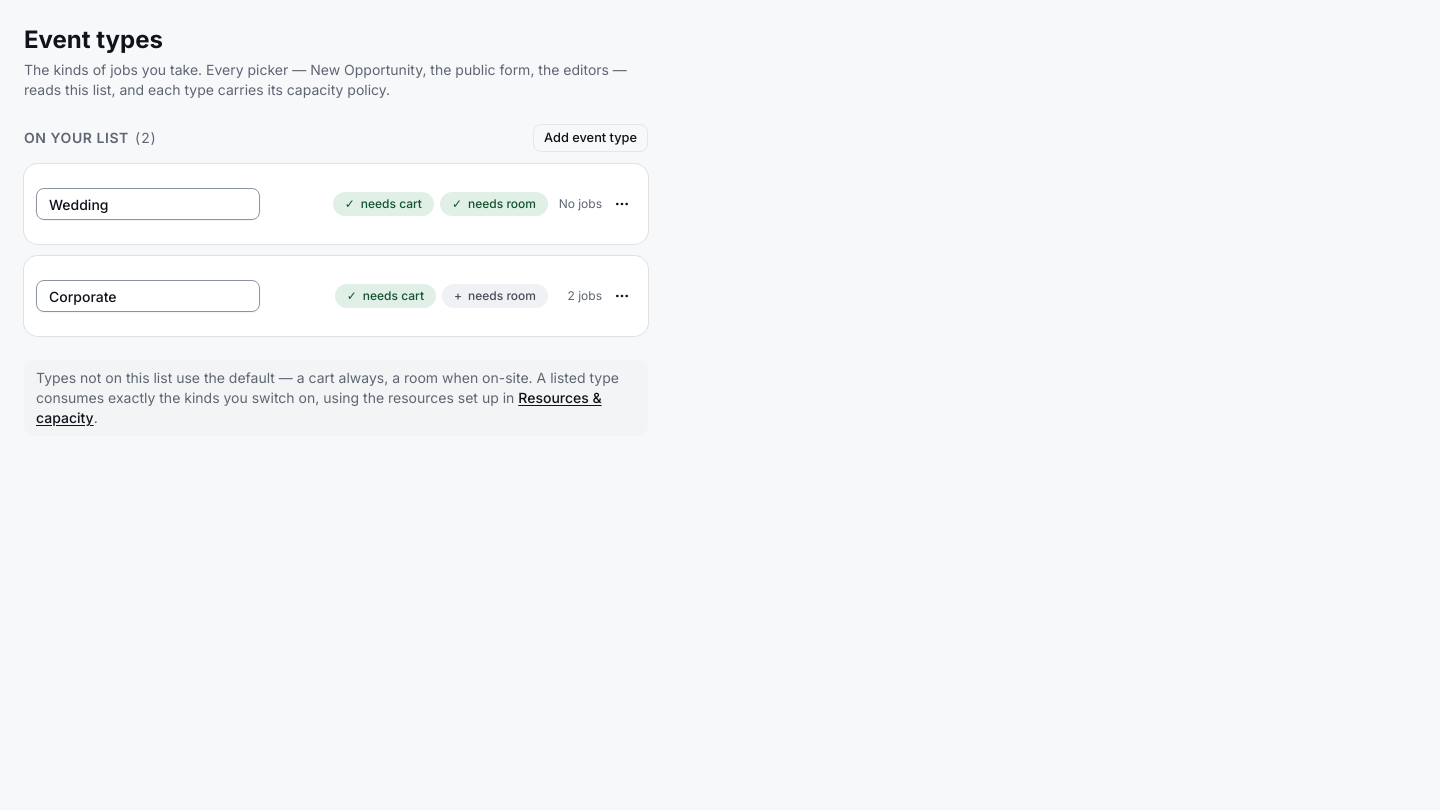
Test: EventTypesClient › deletes a zero-usage type behind a ConfirmDialog through deleteEventTypeProfile
Click the button named "Wedding — actions": point(622, 204) [608, 190, 636, 218]
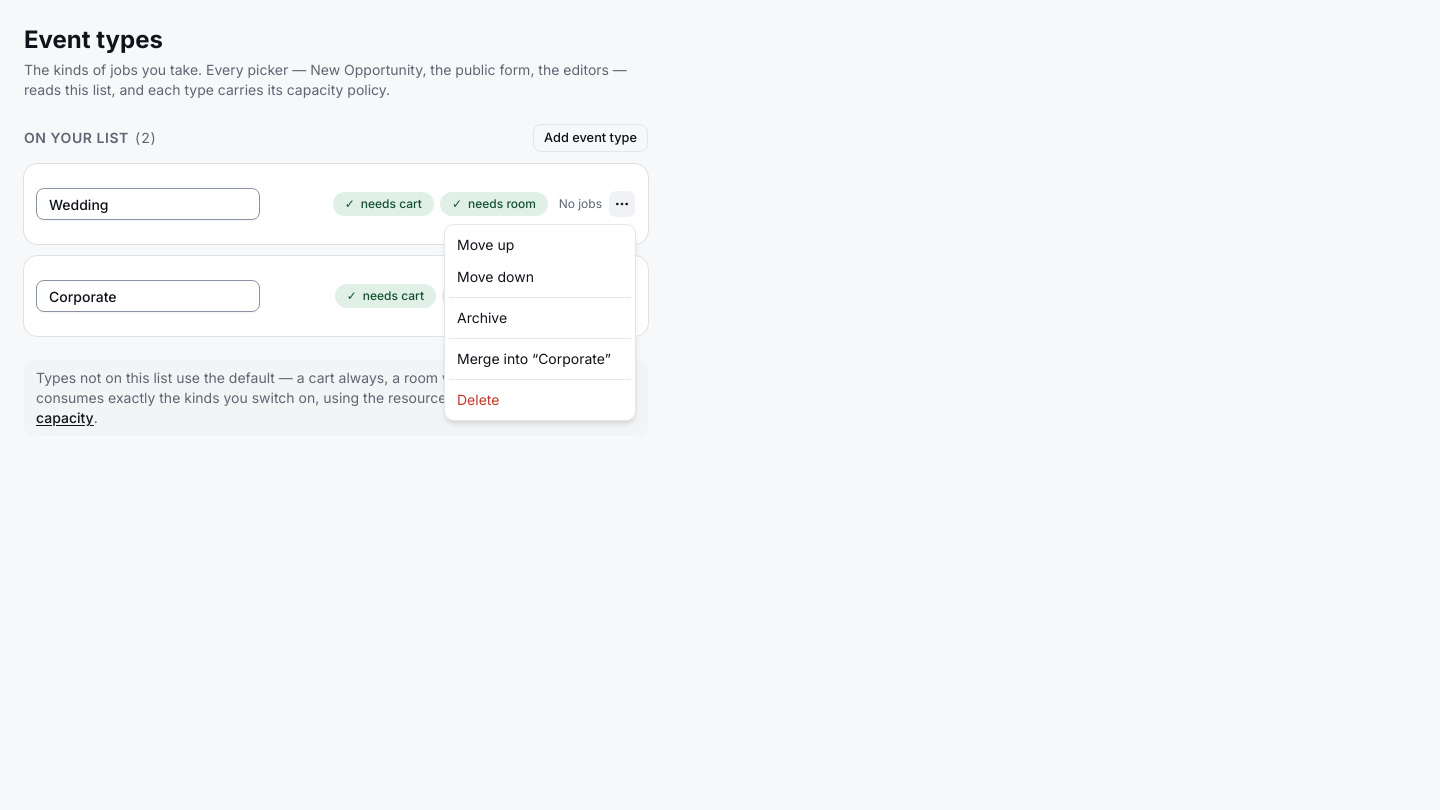
Click the menu item "Delete": point(478, 400) [457, 391, 499, 408]
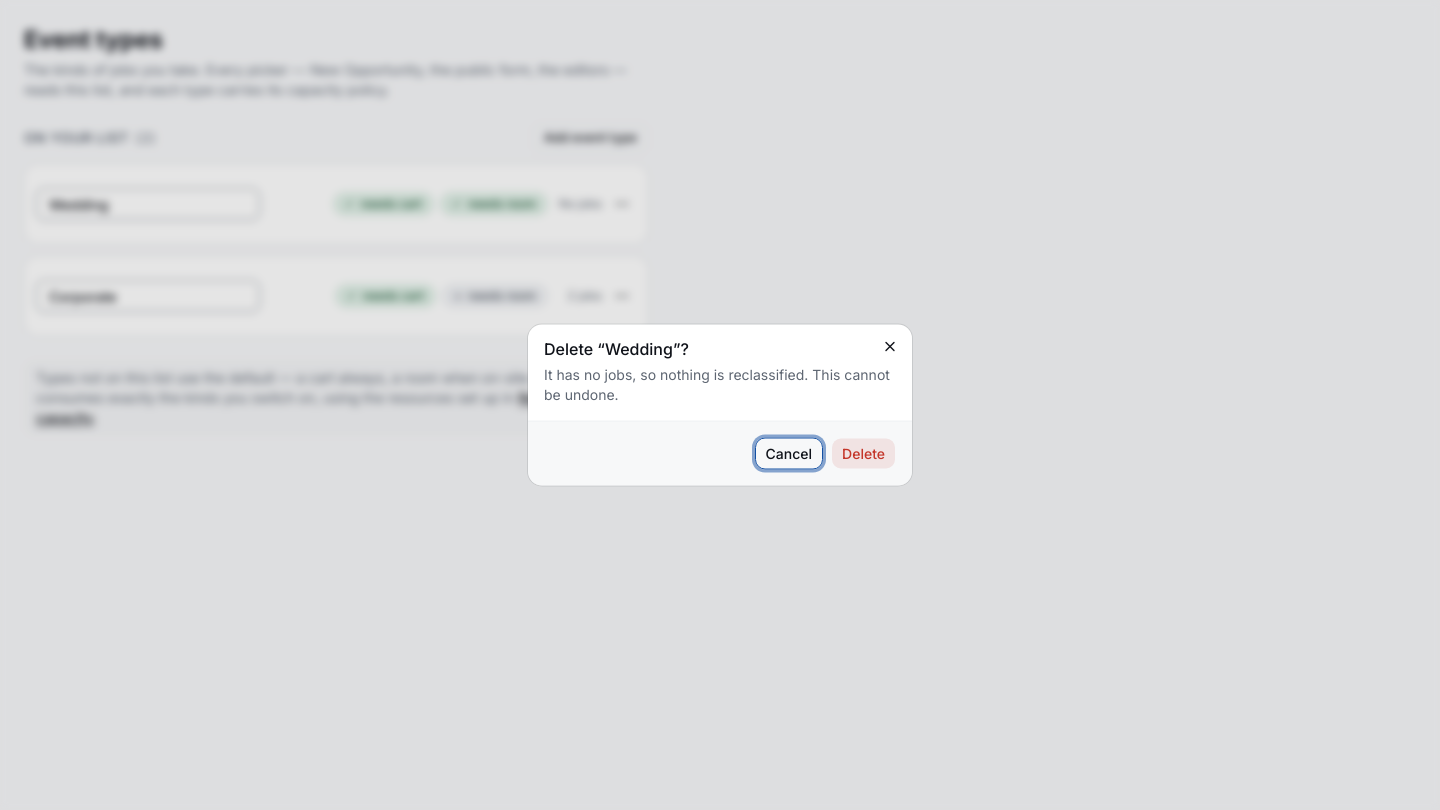
Check: the heading "Delete “Wedding”?" is shown, box [544, 338, 689, 358]
Click the button "Delete": point(864, 454) [831, 438, 896, 470]
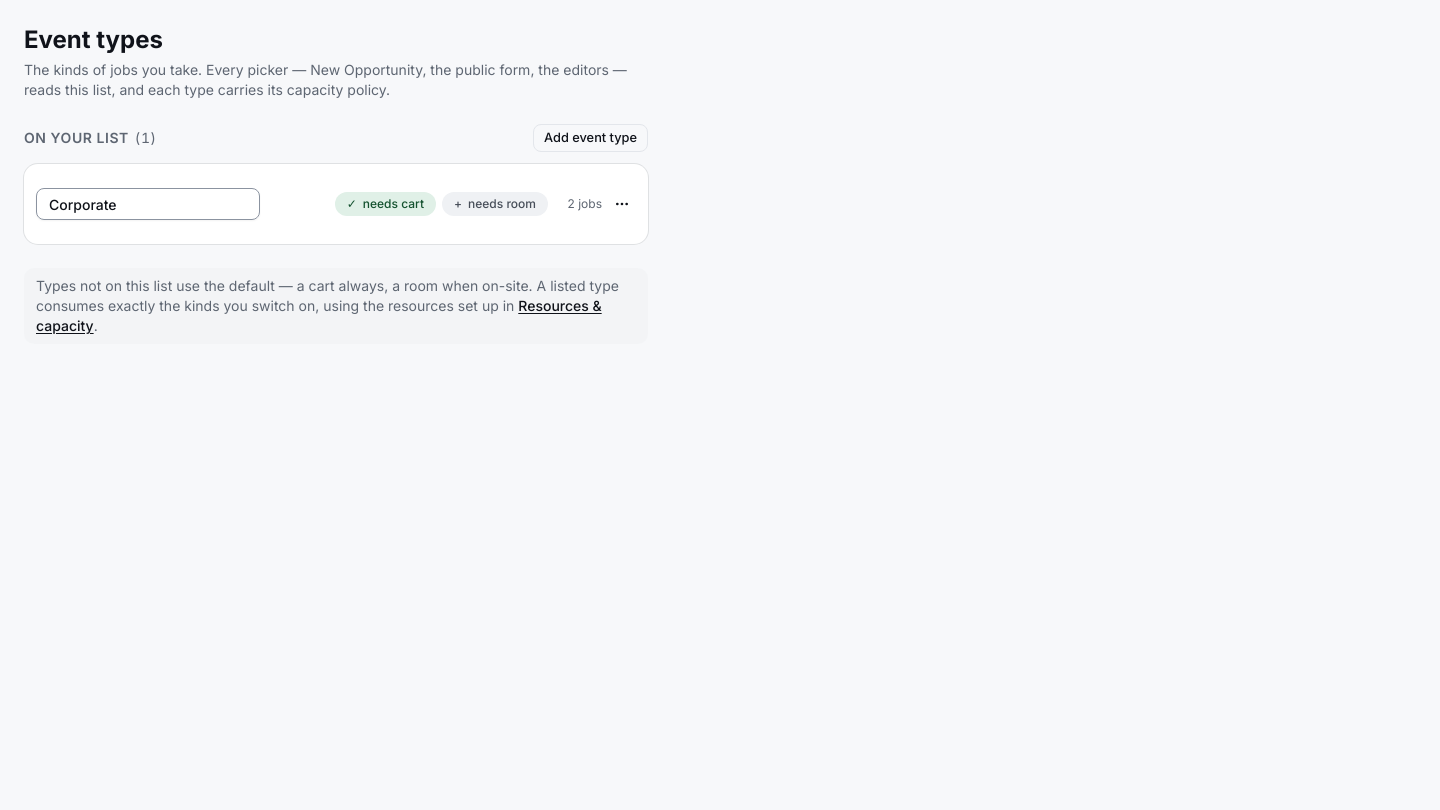
Check: the heading showing "Wedding" is gone
